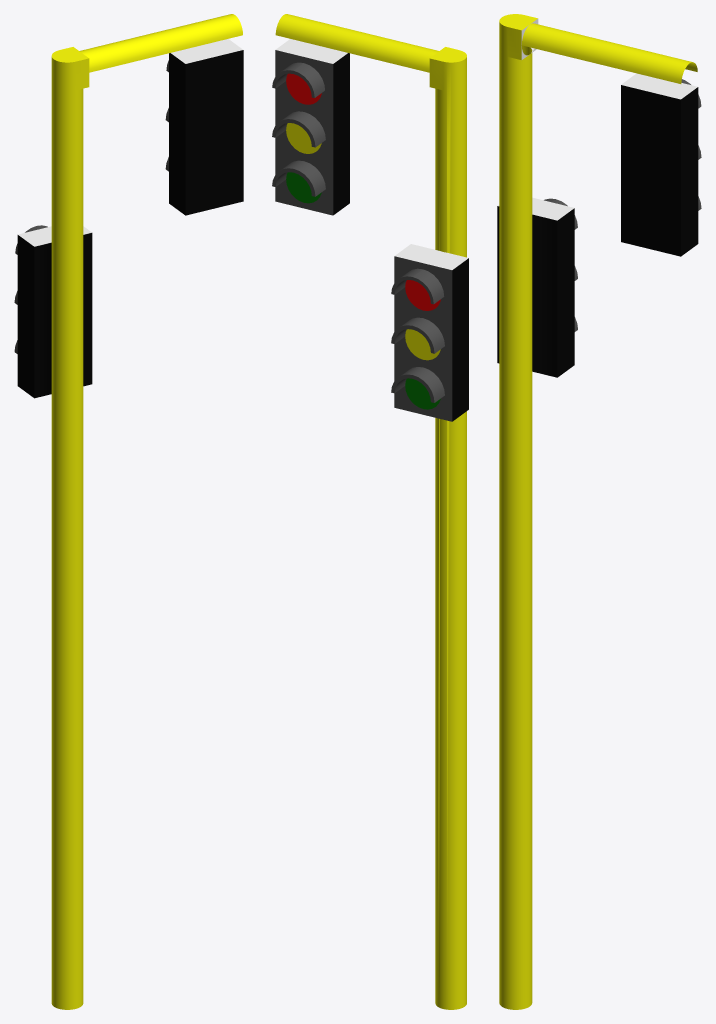
File: semaforo.fbx
3 views of the same model, side by side, from view 1: azimuth 30°, elevation 25°; view 2: azimuth 150°, elevation 25°; view 3: azimuth 330°, elevation 25° (orthographic). The views are drawn at different scales.
Visible parts, largest first — view 1: Model; view 2: Model; view 3: Model.
Part boxes in pixels (box(x1,y1,x2,y2)): Model: box(14, 14, 243, 1009); Model: box(272, 14, 468, 1009); Model: box(497, 14, 701, 1009).
Bounding box in the file's own units: 0.5332 × 2.5 × 0.2067.
